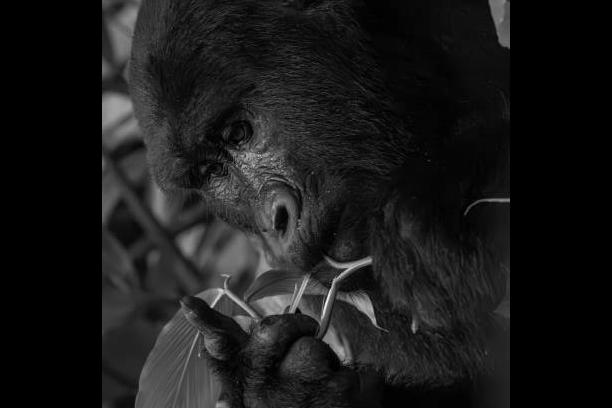goriile_montagne: (130, 0, 508, 408)
